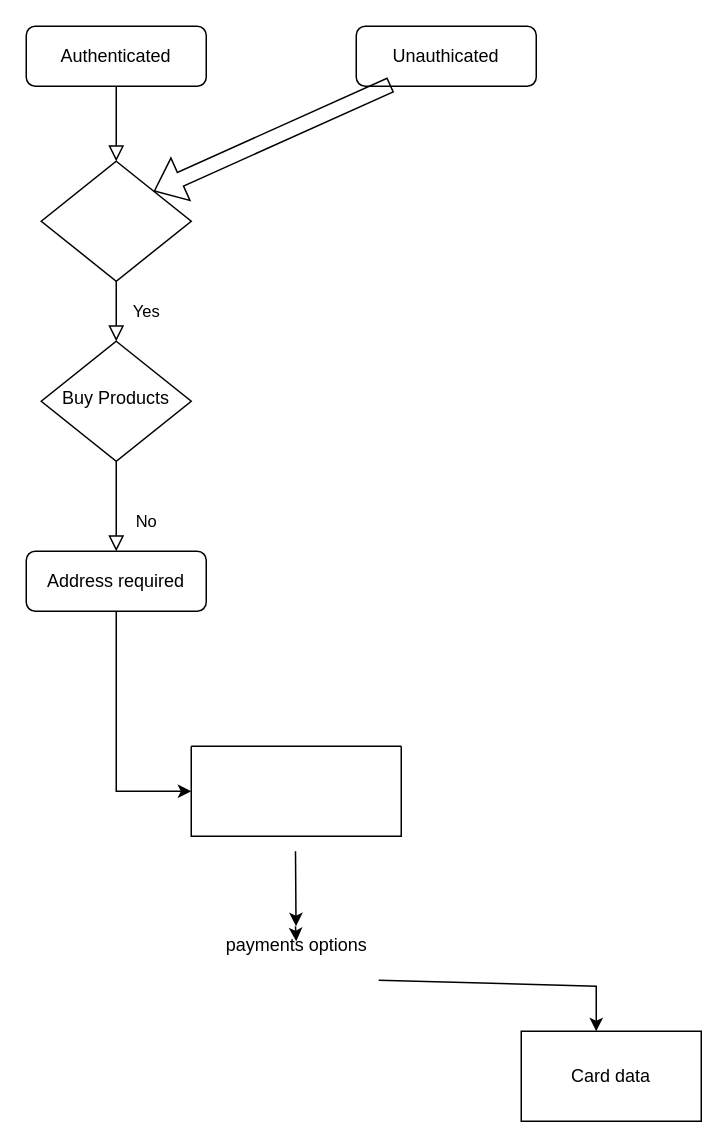
Image size: 728x1148. Some labels were removed from this diagram. The centre of each missing label's shape, as x and y in pixels:
"Create adddres" belongs at pixel 295 790.
"See products" belongs at pixel 115 220.
